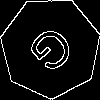G: (25, 22, 84, 83)
